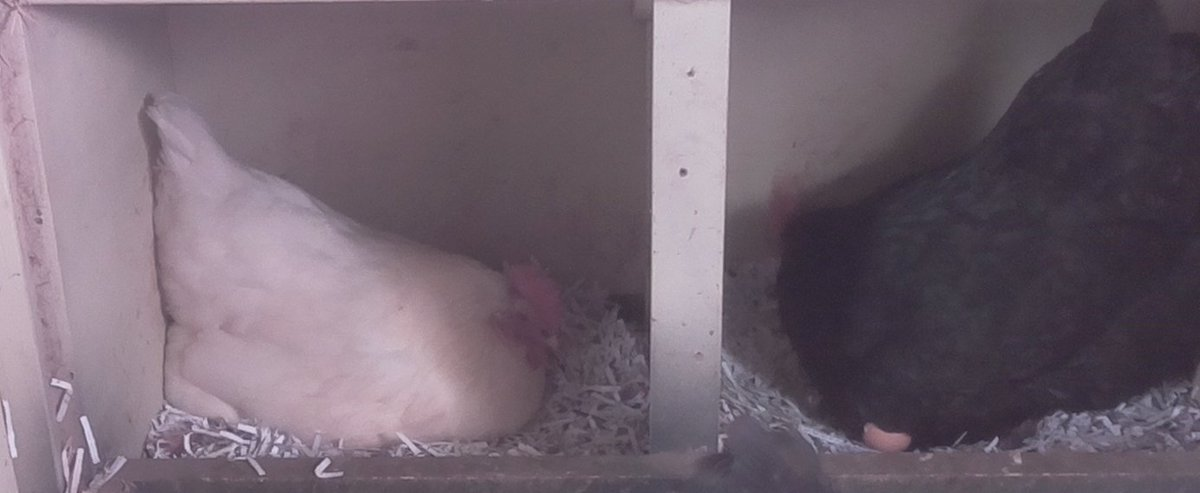egg: (849, 418, 917, 452)
hen: (772, 9, 1194, 445), (135, 89, 577, 459)
